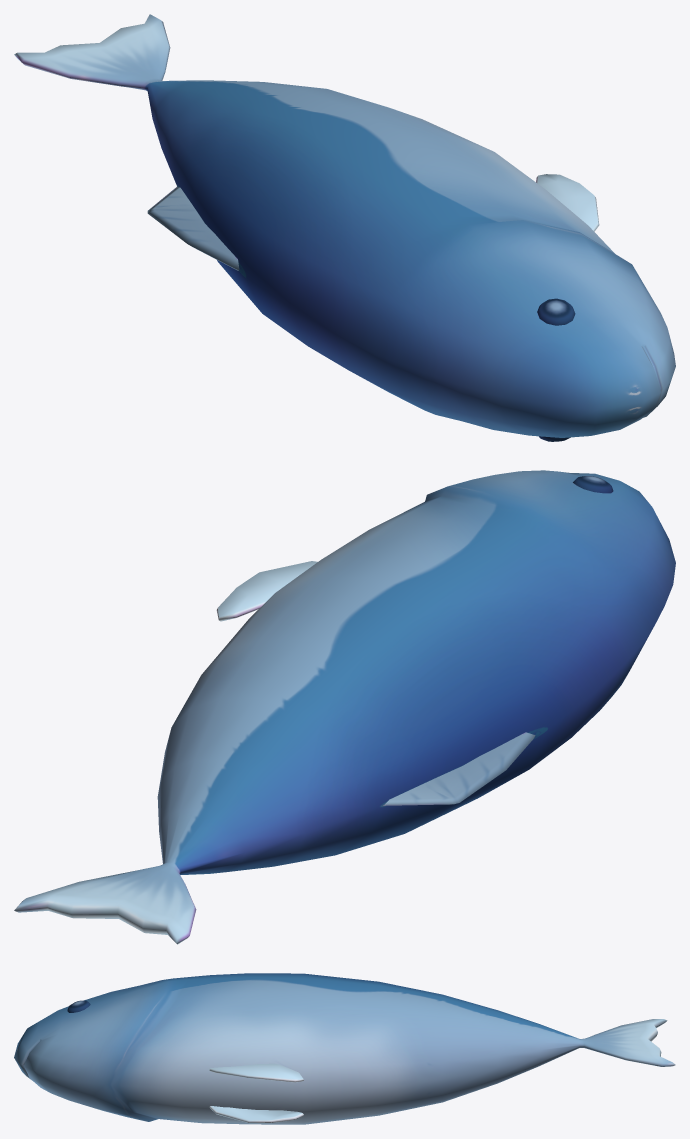
File: fish.fbx
3 views of the same model, one above another, from view 1: azimuth 30°, elevation 25°; view 2: azimuth 150°, elevation 25°; view 3: azimuth 270°, elevation 25° (orthographic). The views are drawn at different scales.
Parts seen in each view (by area): view 1: Fish; view 2: Fish; view 3: Fish.
Boxes of the visible parts, left/top/right/bottom form: Fish: left=14, top=14, right=675, bottom=441; Fish: left=14, top=470, right=675, bottom=944; Fish: left=14, top=973, right=675, bottom=1124.
Bounding box in the file's own units: 68.43 × 40.45 × 192.
